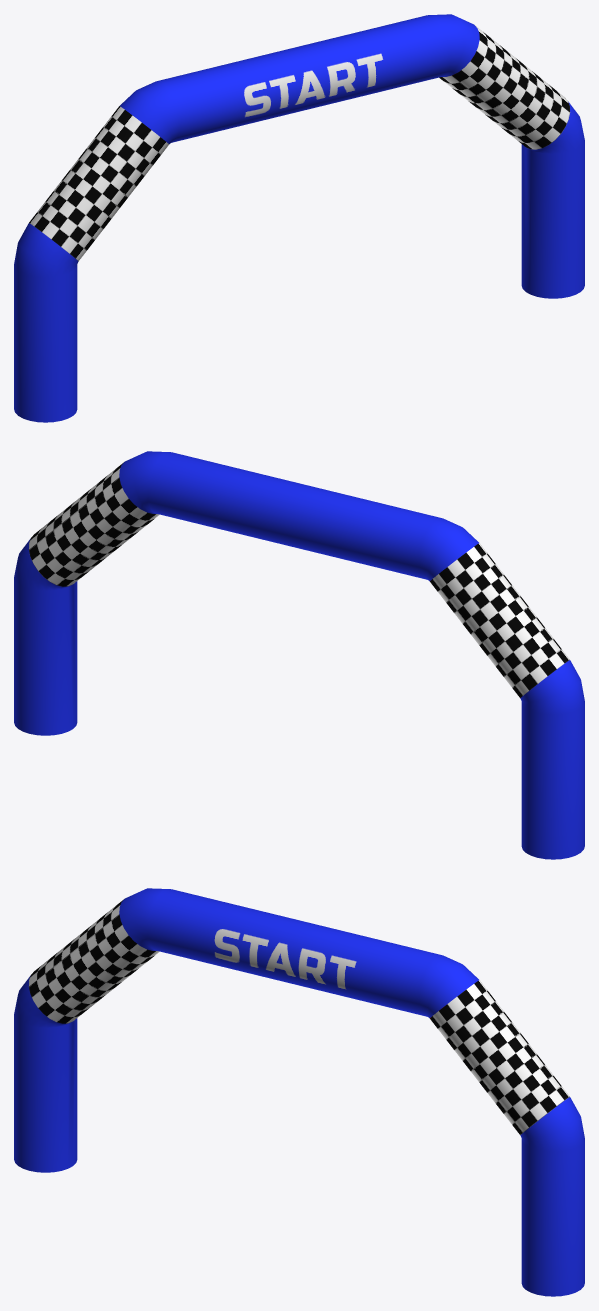
The model's file is Arch-Start_Blue.fbx.
3 renders of one model, top to bottom at view 1: azimuth 30°, elevation 25°; view 2: azimuth 150°, elevation 25°; view 3: azimuth 330°, elevation 25°, orthographic.
Visible parts, largest first — view 1: Arch-Start_Blue; view 2: Arch-Start_Blue; view 3: Arch-Start_Blue.
Part boxes in pixels (x1,y1,x2,y2): Arch-Start_Blue: (14, 14, 584, 422); Arch-Start_Blue: (14, 451, 584, 859); Arch-Start_Blue: (14, 888, 584, 1296).
Size of the model in its own units: 904 by 456 by 88.29.
